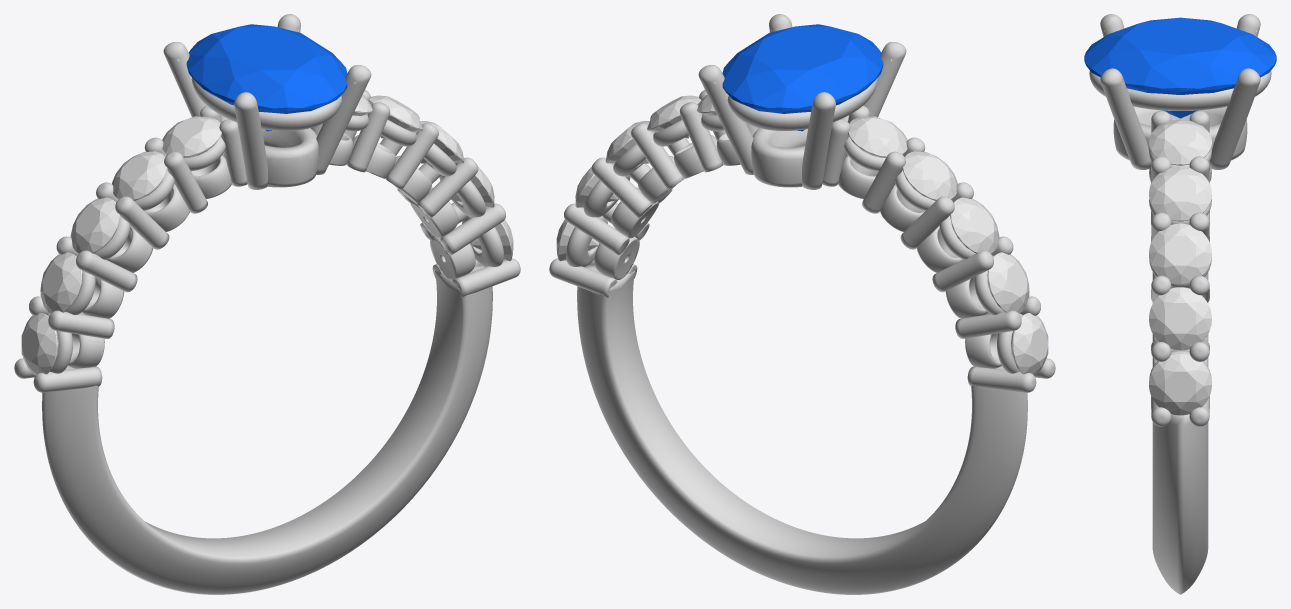
File: bluesapphire-oval-platinum-4prong-knifeedge-11stone.glb
3 renders of one model, left to right at view 1: azimuth 30°, elevation 25°; view 2: azimuth 150°, elevation 25°; view 3: azimuth 270°, elevation 25°, orthographic.
Parts seen in each view (by area): view 1: metal, stone, side.002, side.003, side.001, side.004, side, side.008, side.007; view 2: metal, stone, side.002, side.003, side.001, side.004, side, side.008, side.007; view 3: metal, stone, side.006, side.005, side.007, side.008, side.009.
Boxes of the visible parts, bbox=[...] form: metal: bbox=[14, 14, 520, 594]; stone: bbox=[186, 24, 347, 131]; side.002: bbox=[70, 197, 119, 253]; side.003: bbox=[112, 151, 167, 200]; side.001: bbox=[40, 252, 82, 313]; side.004: bbox=[162, 116, 221, 157]; side: bbox=[21, 313, 58, 375]; side.008: bbox=[368, 95, 422, 138]; side.007: bbox=[420, 121, 464, 163]; metal: bbox=[549, 14, 1055, 594]; stone: bbox=[722, 24, 883, 131]; side.002: bbox=[950, 197, 999, 253]; side.003: bbox=[902, 151, 957, 200]; side.001: bbox=[987, 252, 1029, 313]; side.004: bbox=[848, 116, 907, 157]; side: bbox=[1011, 313, 1048, 375]; side.008: bbox=[647, 95, 701, 138]; side.007: bbox=[605, 121, 649, 163]; metal: bbox=[1089, 14, 1271, 594]; stone: bbox=[1084, 17, 1276, 118]; side.006: bbox=[1149, 287, 1211, 350]; side.005: bbox=[1149, 353, 1211, 415]; side.007: bbox=[1149, 223, 1211, 284]; side.008: bbox=[1149, 166, 1211, 221]; side.009: bbox=[1149, 119, 1211, 165].
Size of the model in its own units: 21.88 by 23.4 by 7.64.
